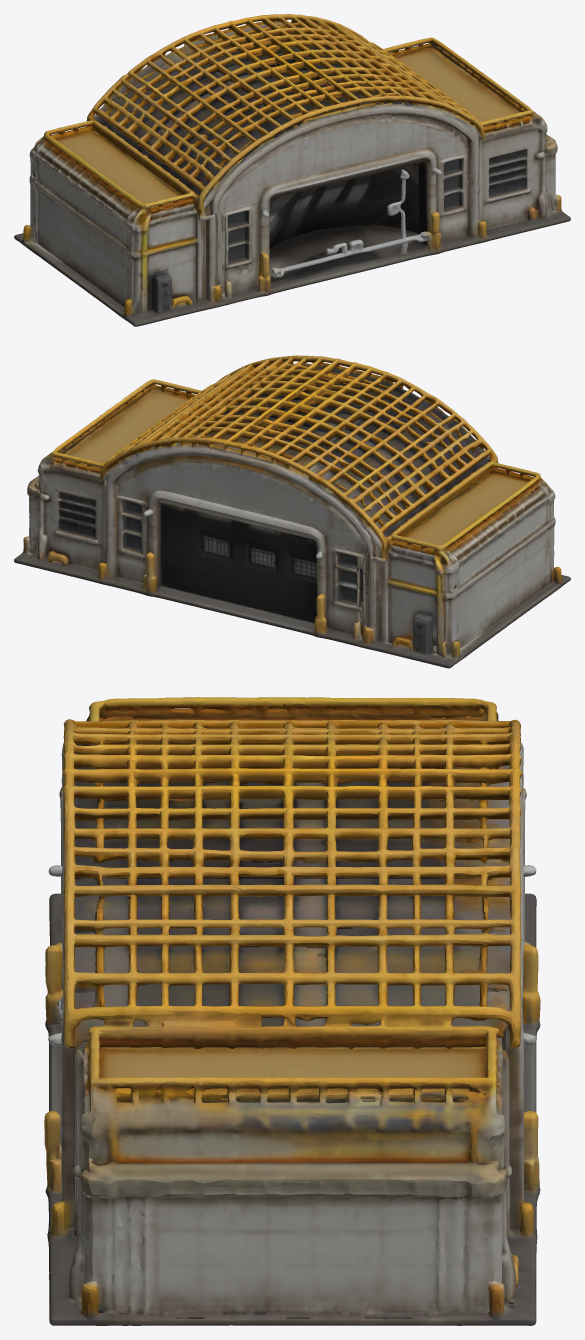
The model's file is hangar_ruin.glb.
3 renders of one model, top to bottom at view 1: azimuth 30°, elevation 25°; view 2: azimuth 150°, elevation 25°; view 3: azimuth 270°, elevation 25°, orthographic. The views are drawn at different scales.
Parts seen in each view (by area): view 1: world; view 2: world; view 3: world.
Part boxes in pixels (x1,y1,x2,y2): world: [14, 14, 570, 326]; world: [14, 355, 570, 668]; world: [44, 697, 540, 1325].
Bounding box in the file's own units: 24 × 8.92 × 11.8.
1 material, 1 textured.
